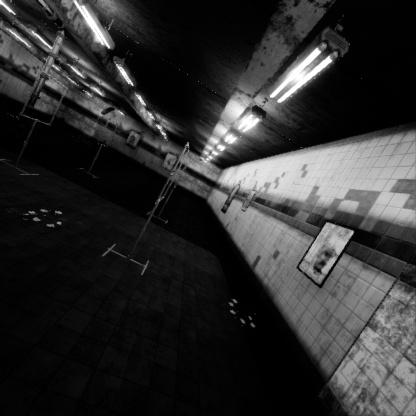gate: (20, 289, 69, 348), (157, 211, 191, 274), (97, 268, 119, 298), (174, 227, 189, 256)
